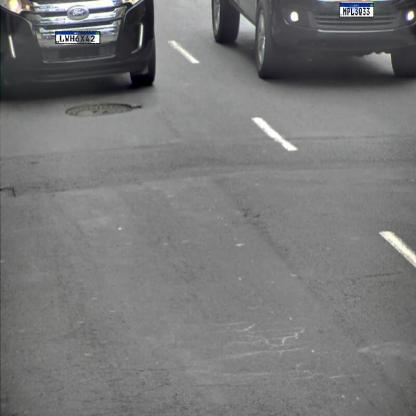PlacaM: (55, 31, 100, 44), (339, 3, 374, 17)
